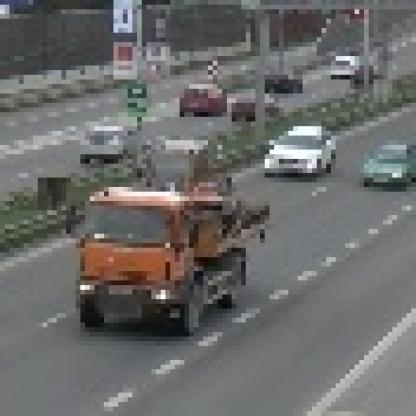truck: (72, 160, 247, 337)
